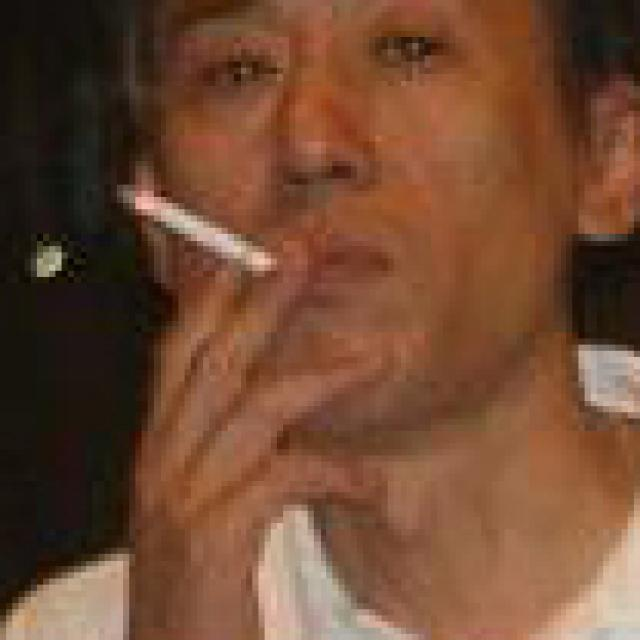smoking: (114, 181, 279, 280)
